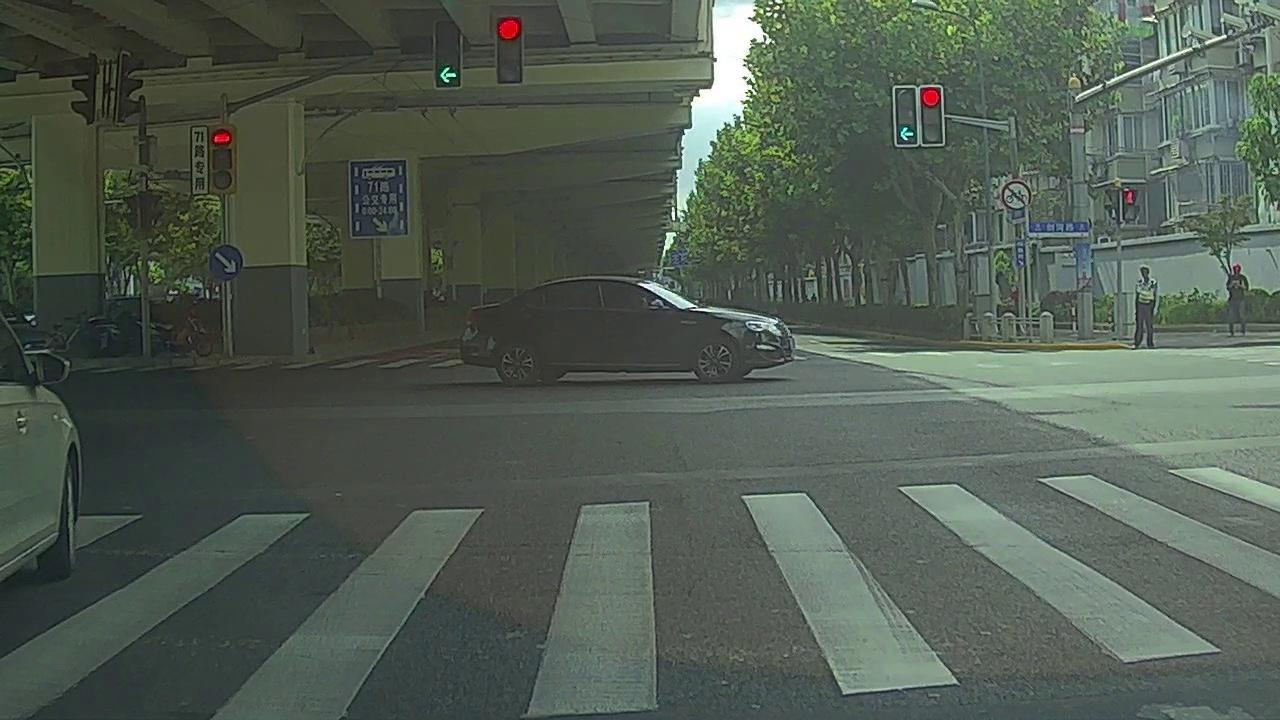traffic_light: (490, 13, 521, 84), (436, 14, 462, 90), (894, 82, 919, 147), (918, 85, 942, 144)
